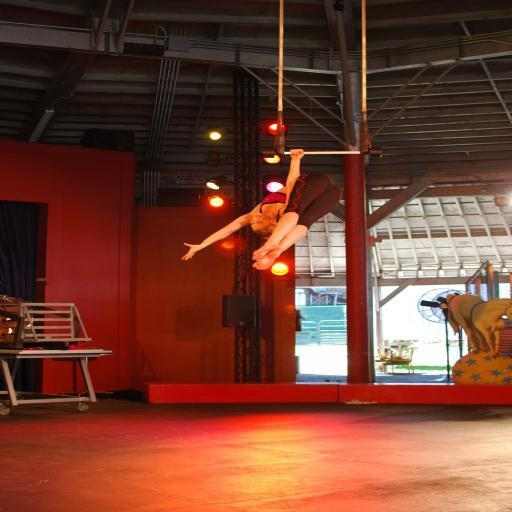horse: (440, 292, 512, 354)
